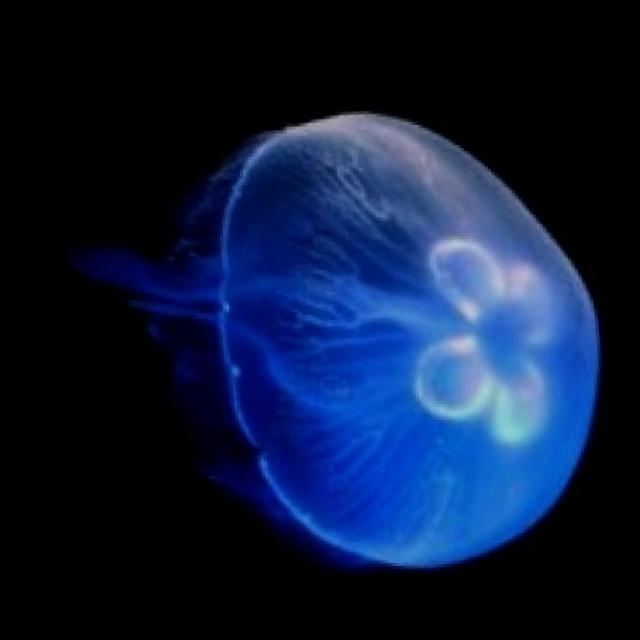Moon-jellyfish: (59, 105, 616, 584)
